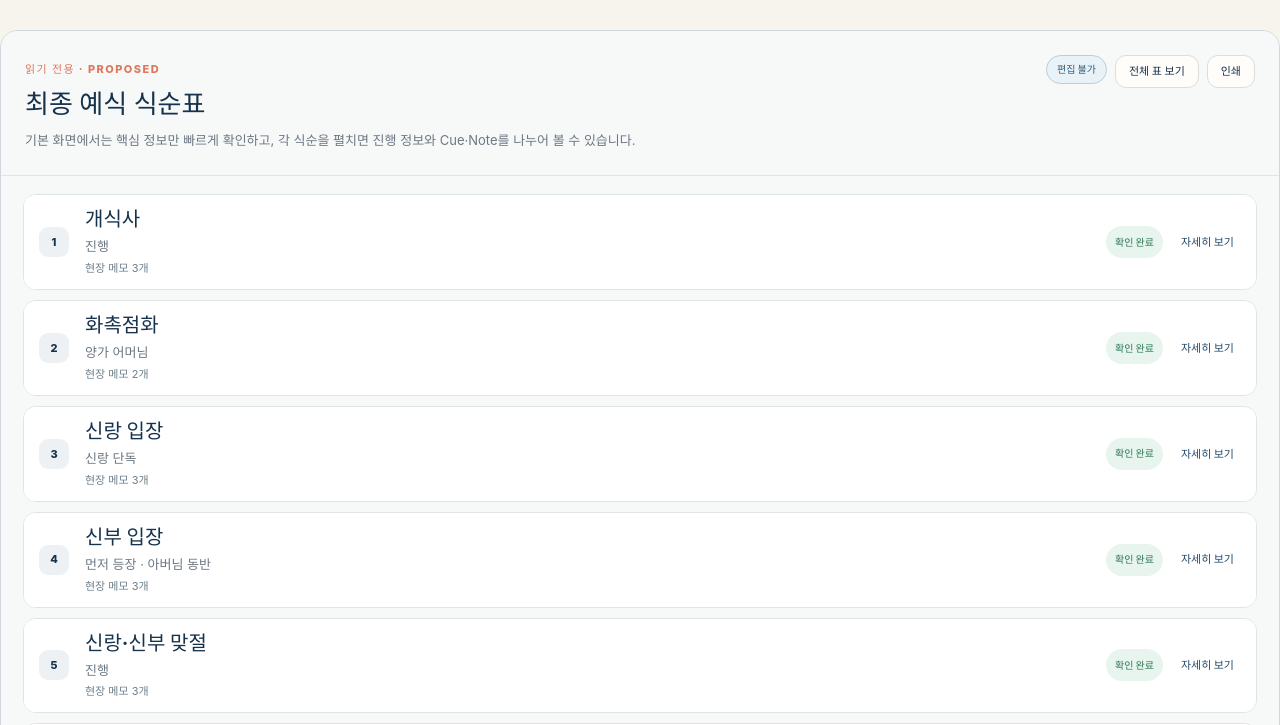
FinalCeremonySheet › Cue와 Note를 서로 다른 열에 표시한다
Click the button "전체 표 보기": click(1157, 71) [1115,55,1199,88]
(page scrolled)
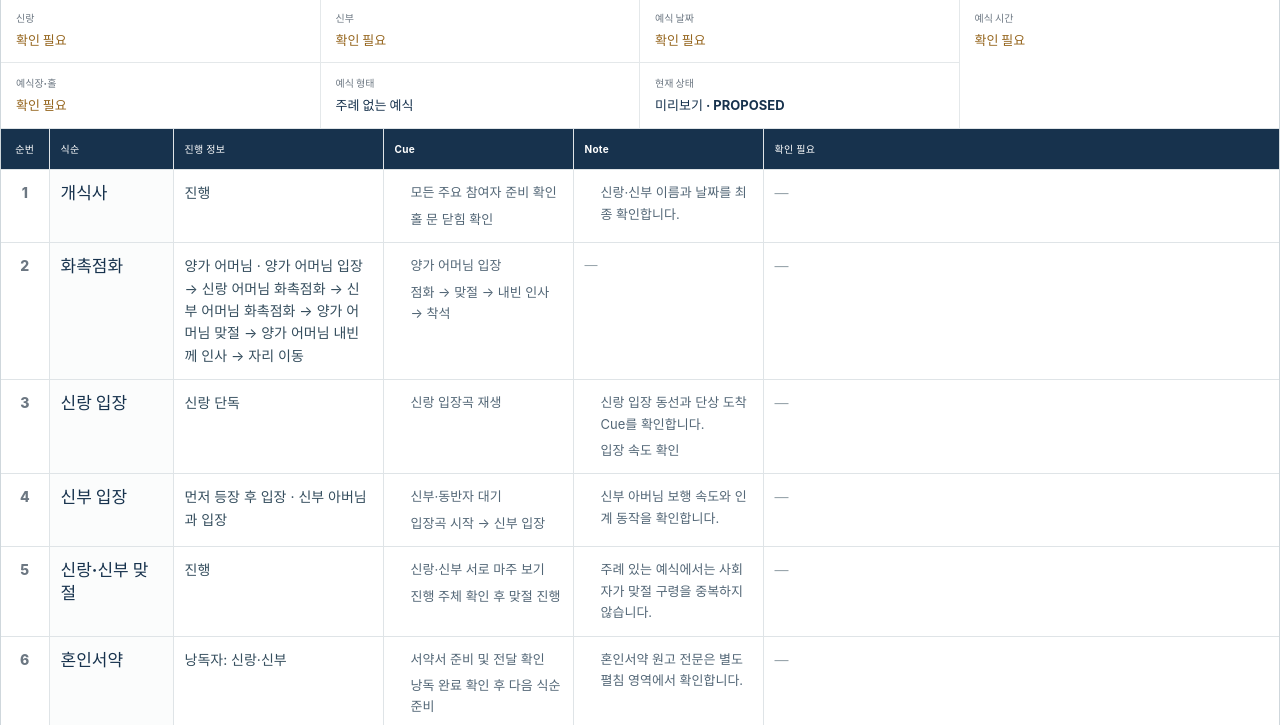
Now the list item "신랑 입장곡 재생" is shown, box [410,394,502,410]
Now the list item "입장 속도 확인" is shown, box [600,442,680,458]
